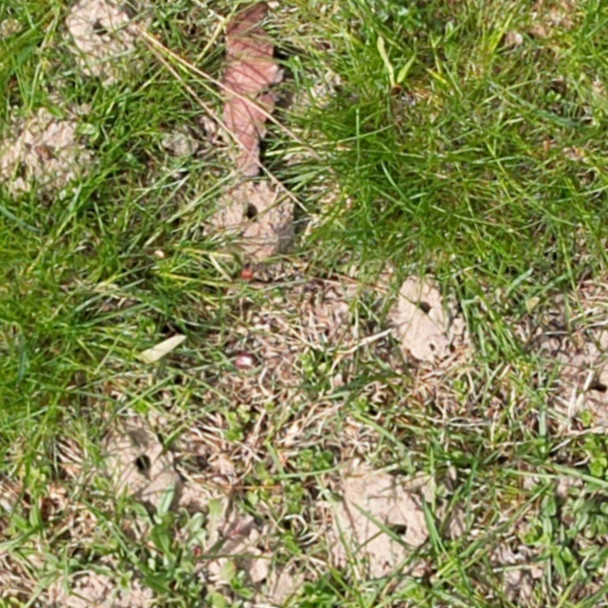nest: (331, 472, 440, 580), (0, 112, 99, 209), (209, 178, 305, 262), (67, 0, 153, 80), (394, 276, 471, 363), (103, 426, 179, 509)
